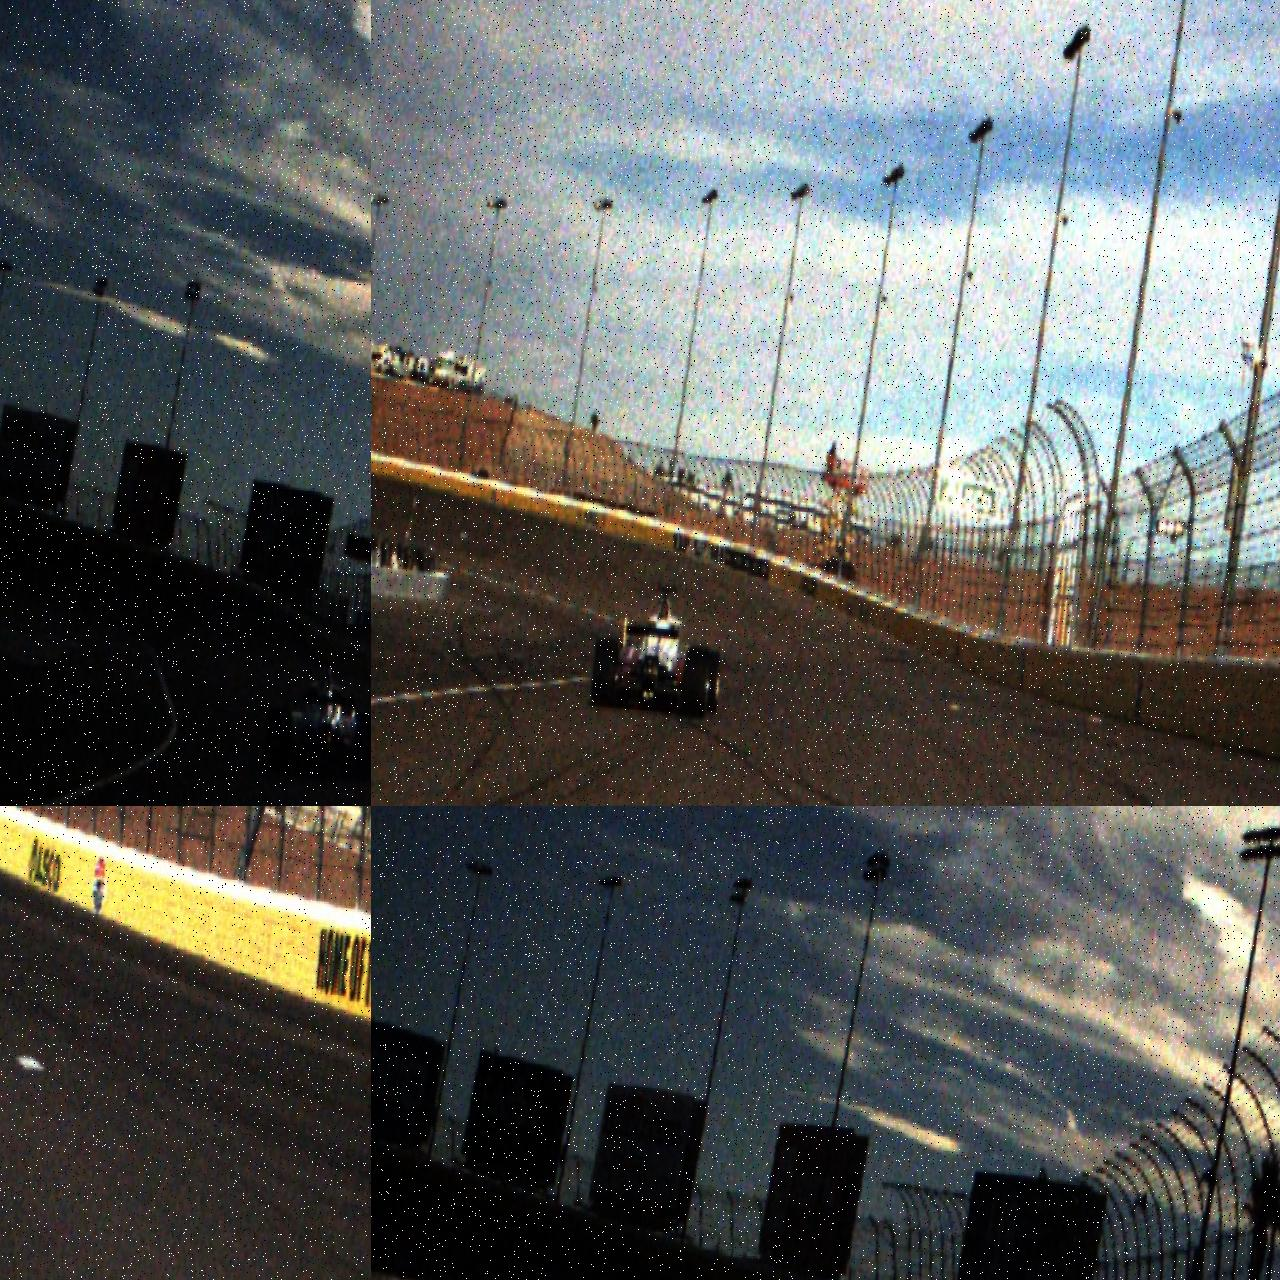AV: (590, 578, 728, 719), (261, 654, 372, 781)
Wheel: (590, 636, 620, 709), (681, 646, 712, 717), (263, 708, 292, 774), (699, 652, 722, 714), (352, 712, 372, 779)
